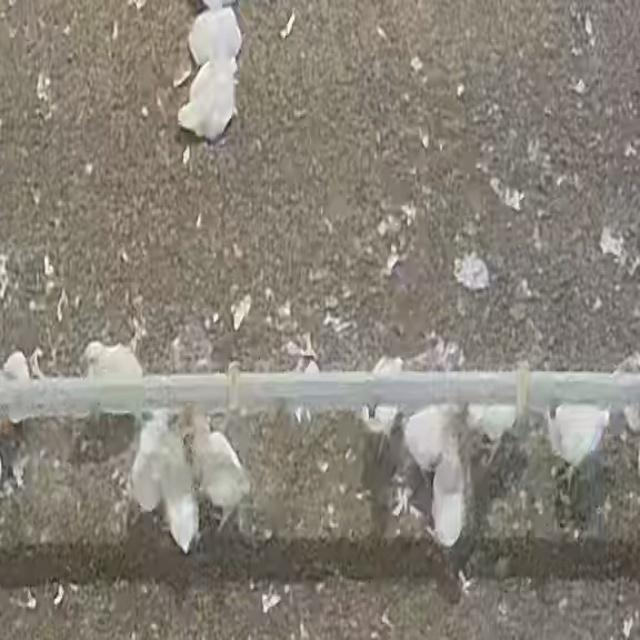chicken: (188, 413, 254, 534), (176, 55, 240, 144), (428, 432, 468, 551)
